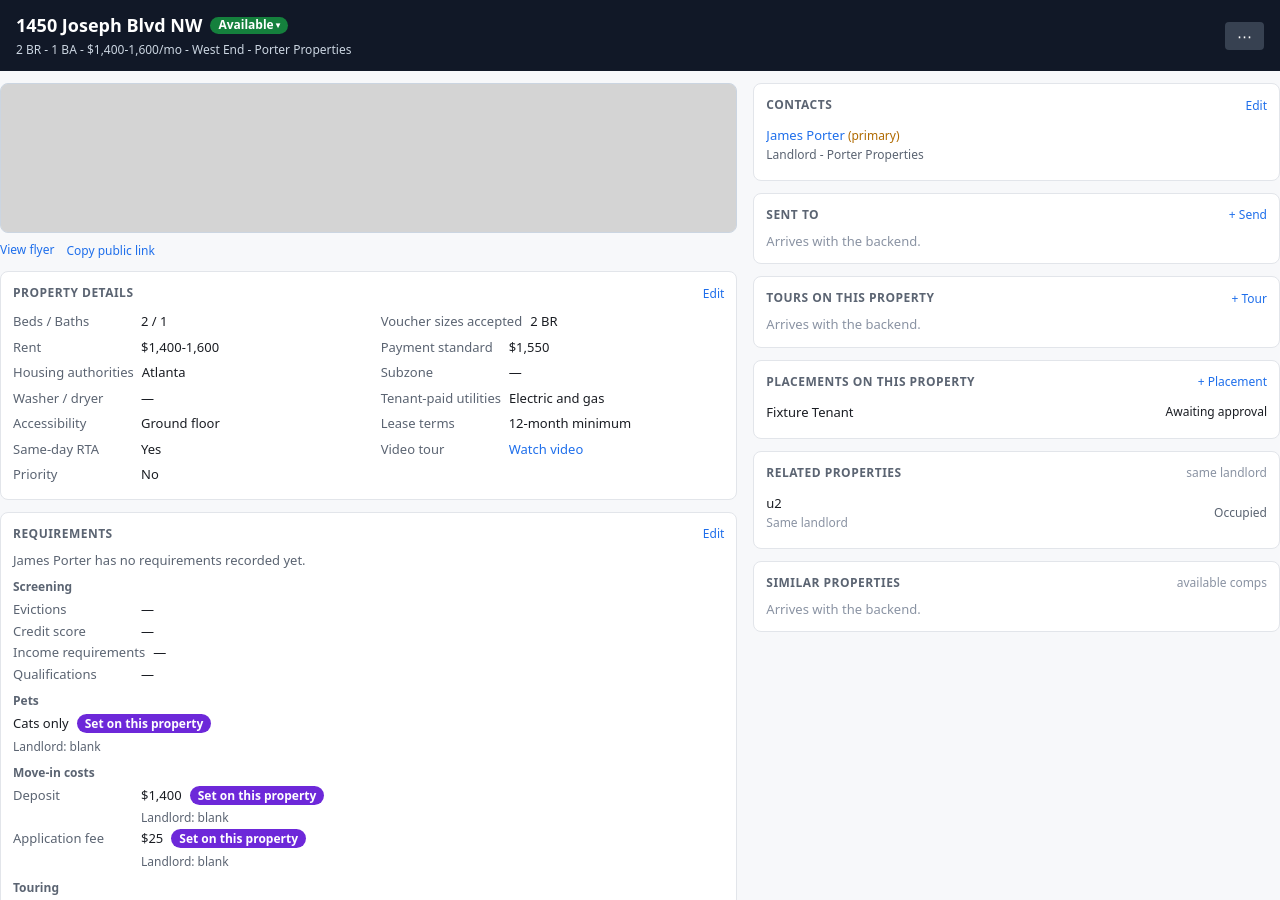
it: ListingDetail › the ⋯ menu "Start placement" opens the create dialog pre-filled+locked to this unit
Click the button named "More actions" at (1244, 36), box [1225, 22, 1264, 50]
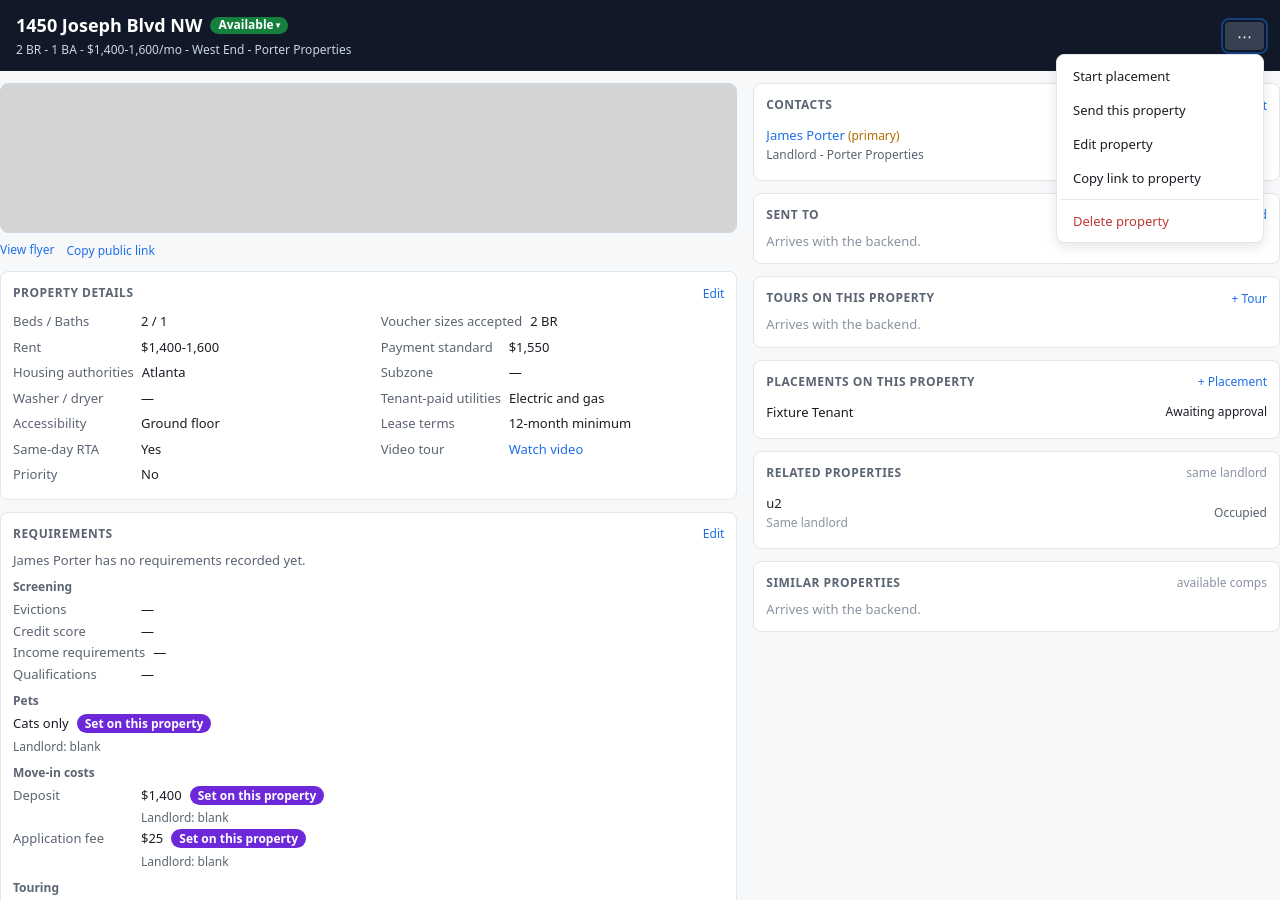
Click the menu item "Start placement" at (1160, 76), box [1061, 58, 1259, 92]
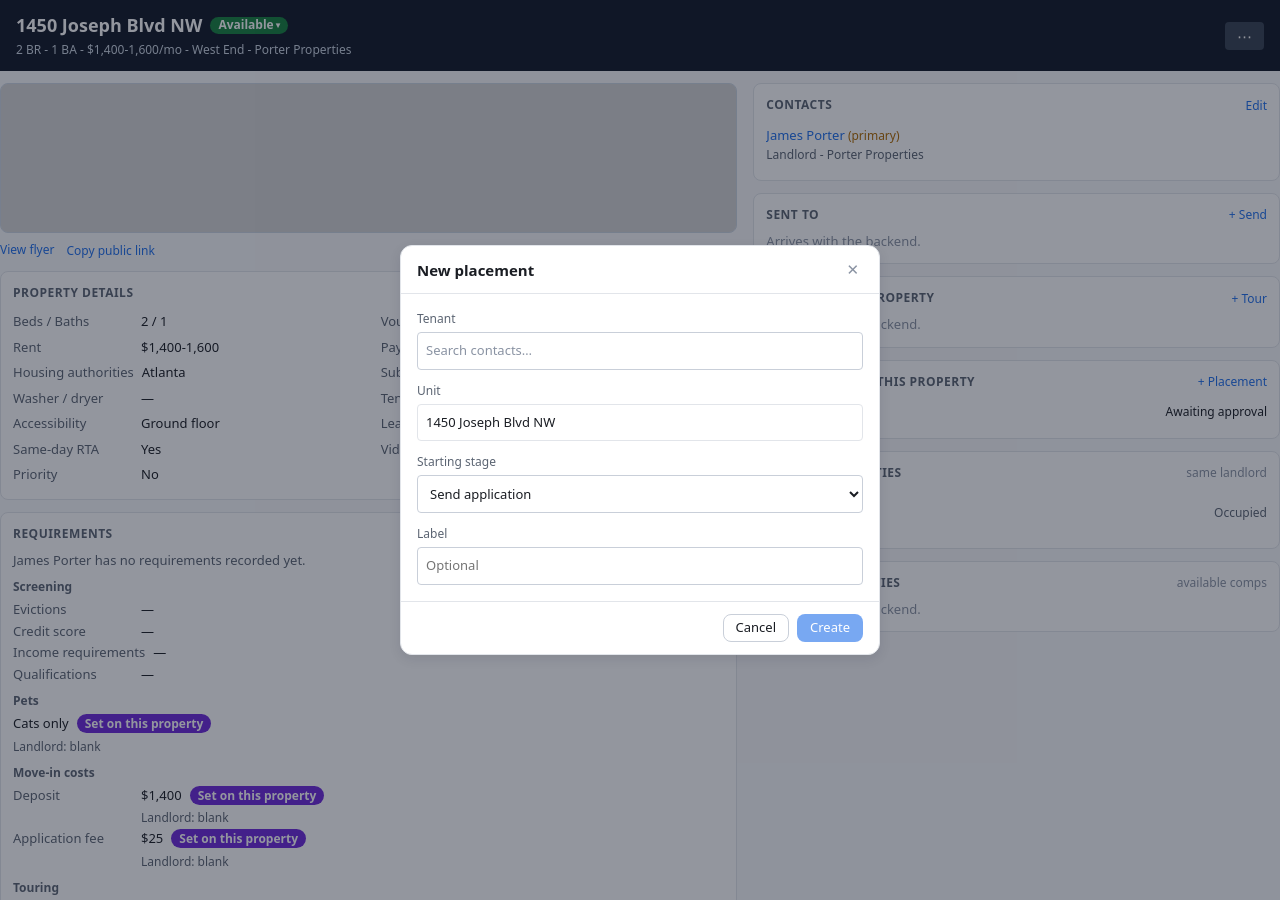
Result: the text named "Unit" reads "1450 Joseph Blvd NW" at [426, 413, 555, 431]
Result: the dropdown named "Tenant" is shown at [417, 332, 863, 370]
